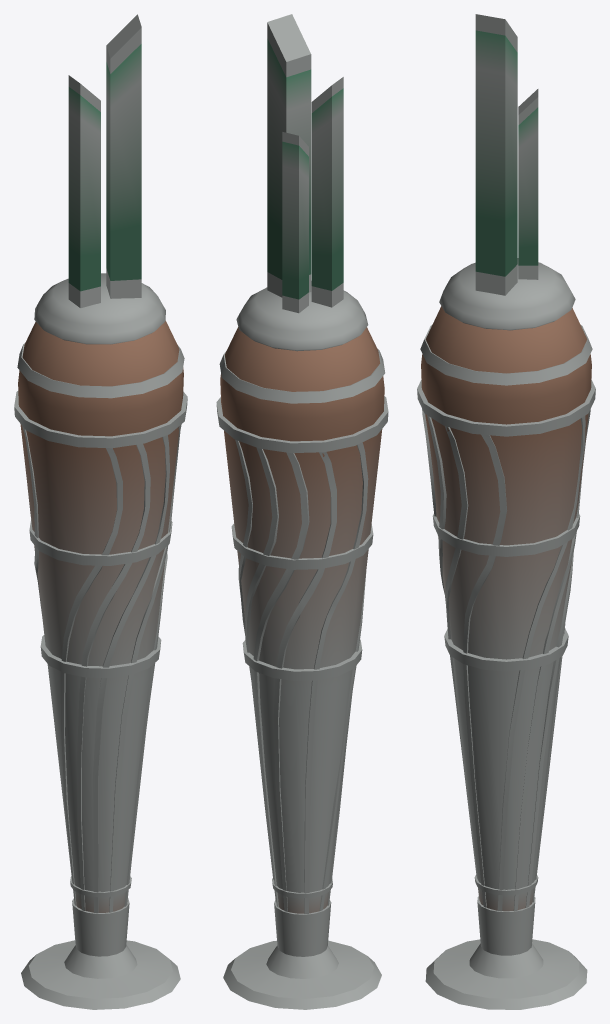
3 views of the same model, side by side, from view 1: azimuth 30°, elevation 25°; view 2: azimuth 150°, elevation 25°; view 3: azimuth 270°, elevation 25° (orthographic). The views are drawn at different scales.
Parts seen in each view (by area): view 1: G:\FFXIV-MapTools\exports\u5f1\bg\ex4\04_uvs_u5\fld\u5f1\bgp (×5); view 2: G:\FFXIV-MapTools\exports\u5f1\bg\ex4\04_uvs_u5\fld\u5f1\bgp (×5); view 3: G:\FFXIV-MapTools\exports\u5f1\bg\ex4\04_uvs_u5\fld\u5f1\bgp (×5).
Part boxes in pixels (bbox=[...]): G:\FFXIV-MapTools\exports\u5f1\bg\ex4\04_uvs_u5\fld\u5f1\bgp (×5): bbox=[14, 14, 187, 1009]; G:\FFXIV-MapTools\exports\u5f1\bg\ex4\04_uvs_u5\fld\u5f1\bgp (×5): bbox=[216, 14, 388, 1009]; G:\FFXIV-MapTools\exports\u5f1\bg\ex4\04_uvs_u5\fld\u5f1\bgp (×5): bbox=[417, 14, 595, 1009].
Size of the model in its own units: 1.12 by 6.74 by 1.12.
